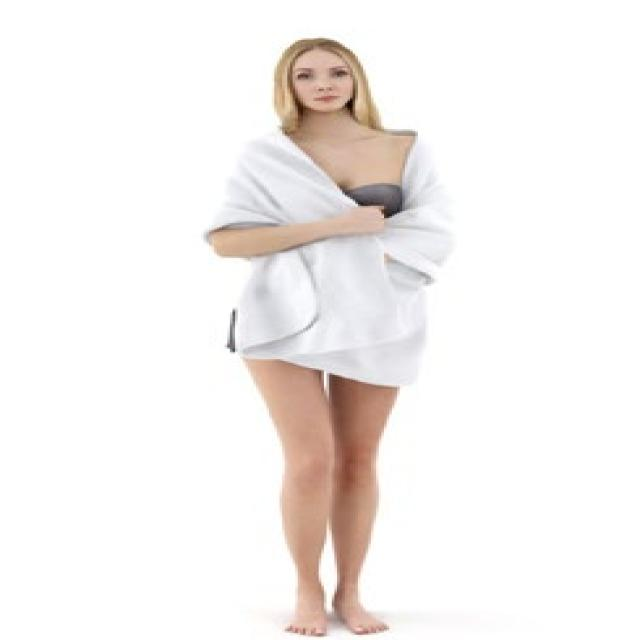standing: (196, 36, 448, 638)
